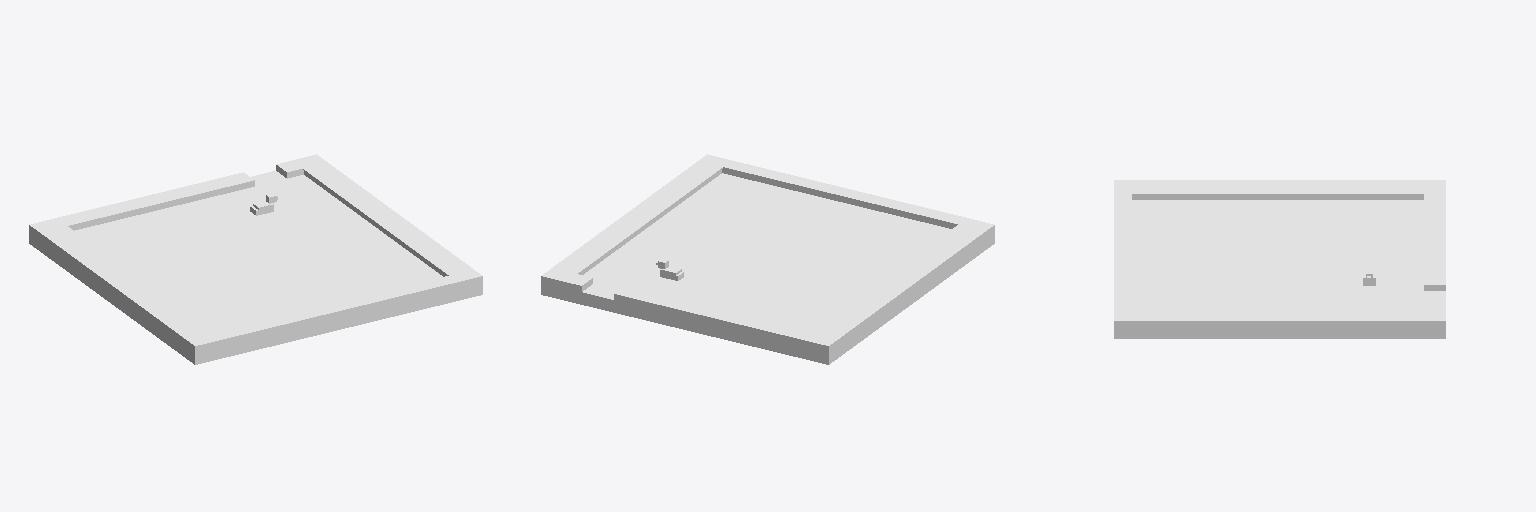
The model's file is 명수당.obj.
The picture shows the model from 3 angles: view 1: azimuth 30°, elevation 25°; view 2: azimuth 150°, elevation 25°; view 3: azimuth 270°, elevation 25°; orthographic projection.
Parts seen in each view (by area): view 1: object 1; view 2: object 1; view 3: object 1.
Part boxes in pixels (bbox=[...]): object 1: bbox=[29, 154, 482, 364]; object 1: bbox=[541, 154, 994, 364]; object 1: bbox=[1114, 180, 1445, 338].
Bounding box in the file's own units: 24 × 2.1 × 24.